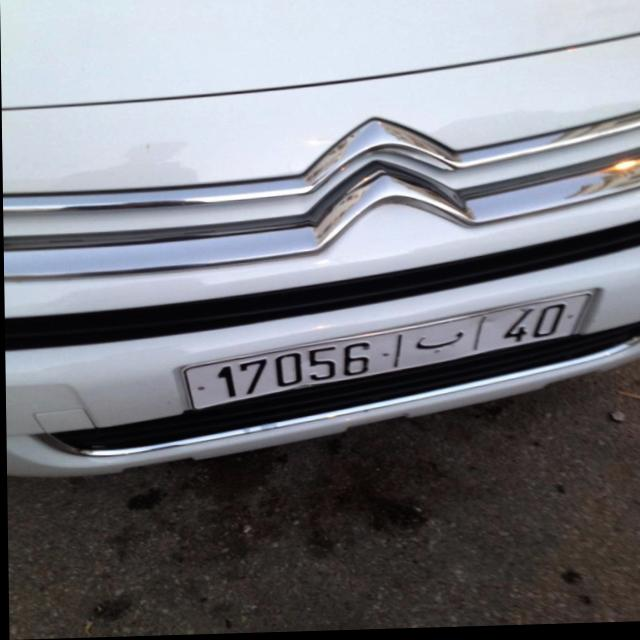License-Plate: (183, 298, 589, 411)
